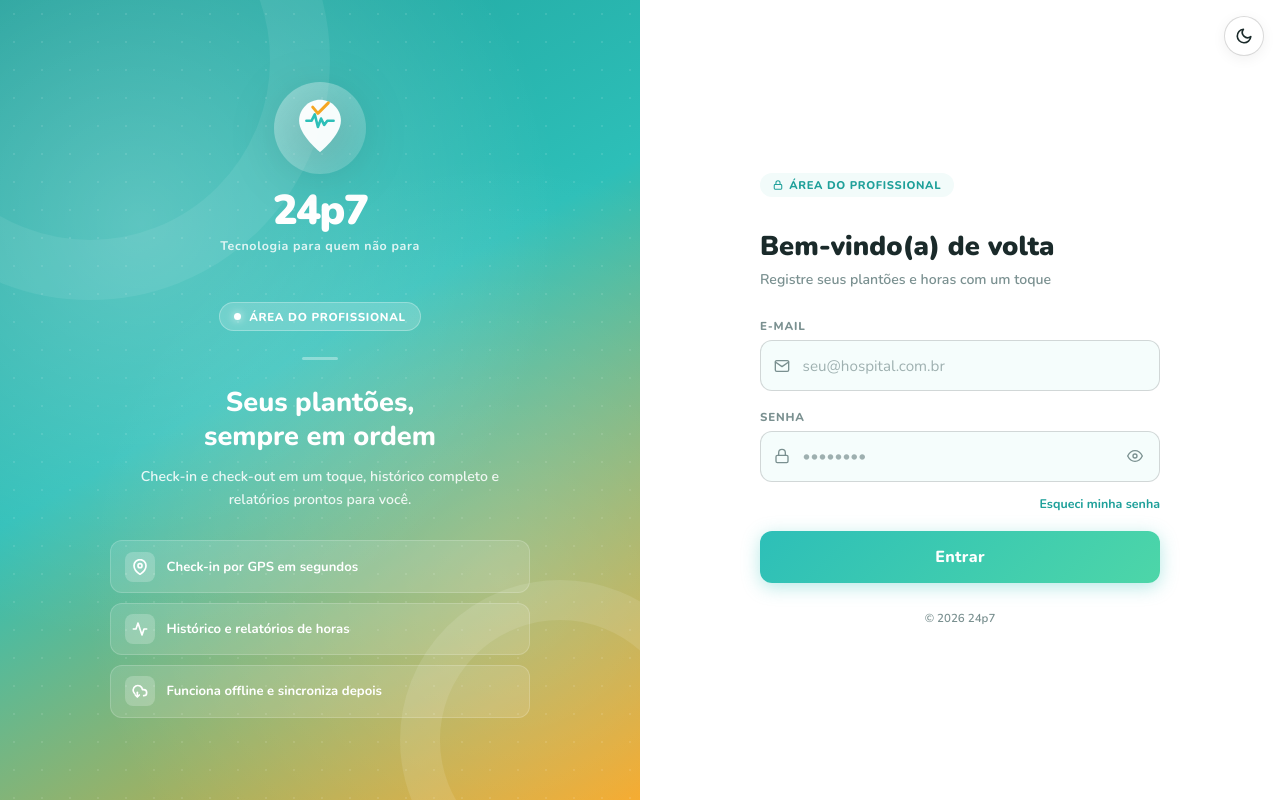
Scenario: <LoginPage /> › inicia em light mode e o toggle alterna para dark
// Clica → tema vira dark
Click the button named "Ativar tema escuro" at (1244, 36), box top-left (1224, 16), bottom-right (1264, 56)
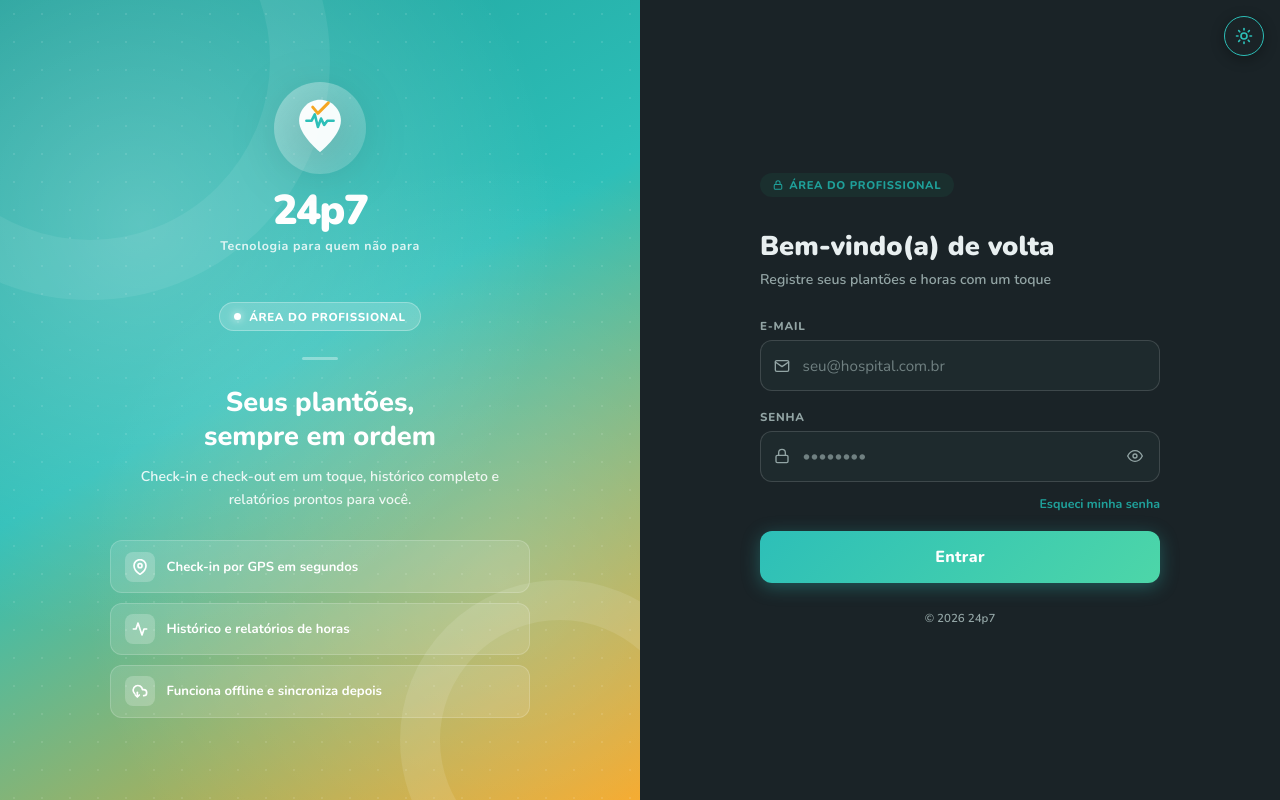
Expected: the button named "Ativar tema claro" is shown, top-left (1224, 16), bottom-right (1264, 56)
